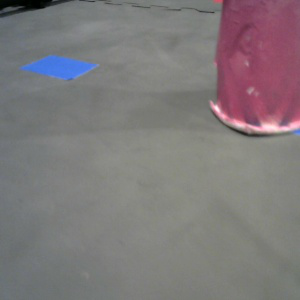Right: (216, 1, 300, 135)
